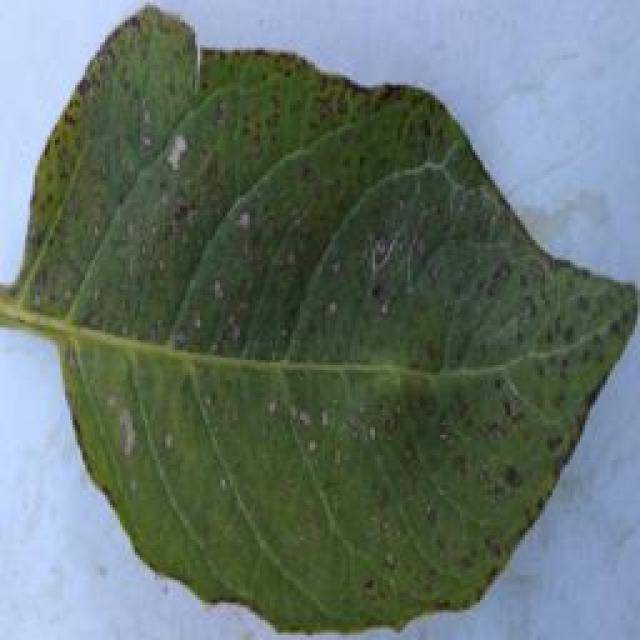Potato_Early_Blight: (13, 17, 639, 636)
